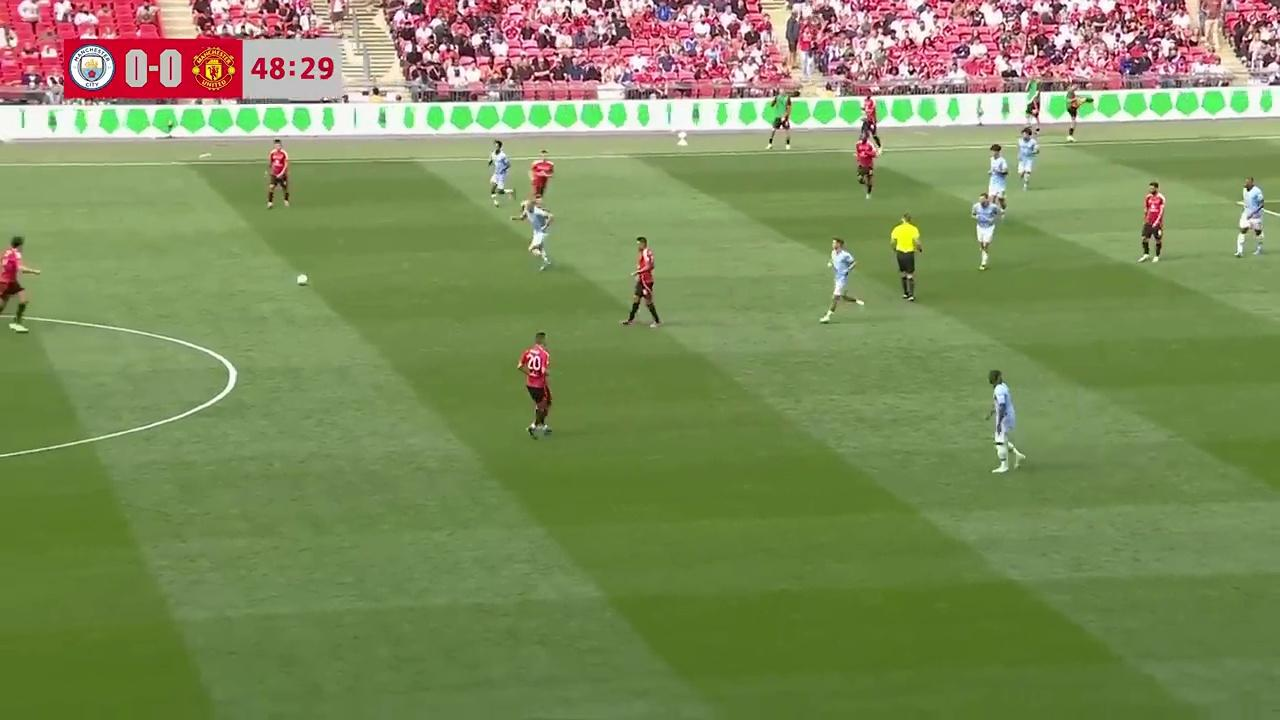ball: (294, 270, 308, 285)
player: (984, 369, 1025, 473), (619, 236, 662, 328), (517, 331, 553, 438), (820, 237, 865, 322), (0, 237, 38, 328), (1234, 177, 1266, 258), (518, 201, 553, 270), (970, 190, 997, 271), (1140, 181, 1165, 262), (265, 140, 290, 208), (854, 134, 878, 200), (487, 142, 512, 205), (987, 144, 1008, 218), (1016, 128, 1040, 191), (529, 151, 554, 211)
referee: (890, 213, 923, 301)
